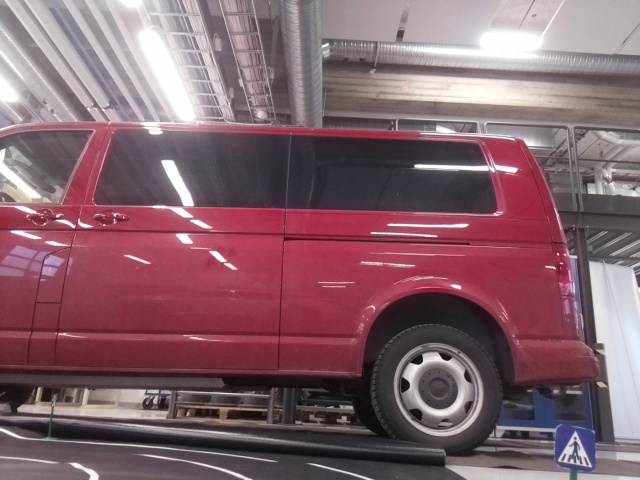Crosswalk: (554, 421, 594, 471)
